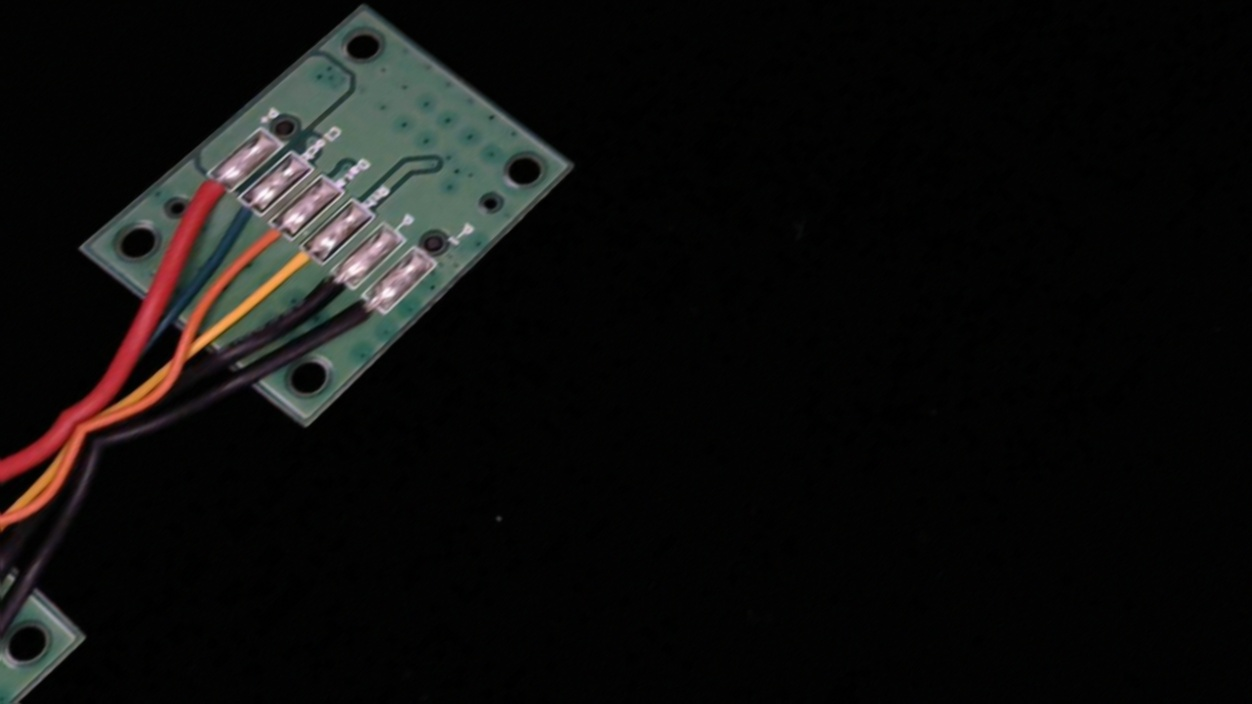Black: (283, 255, 374, 332)
Black1: (321, 282, 402, 351)
Green: (201, 183, 278, 247)
Orange: (229, 206, 312, 275)
Red: (165, 158, 253, 229)
Yellow: (252, 231, 342, 308)
